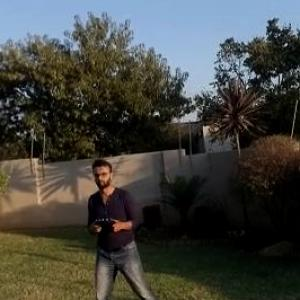follow: (84, 151, 170, 299)
